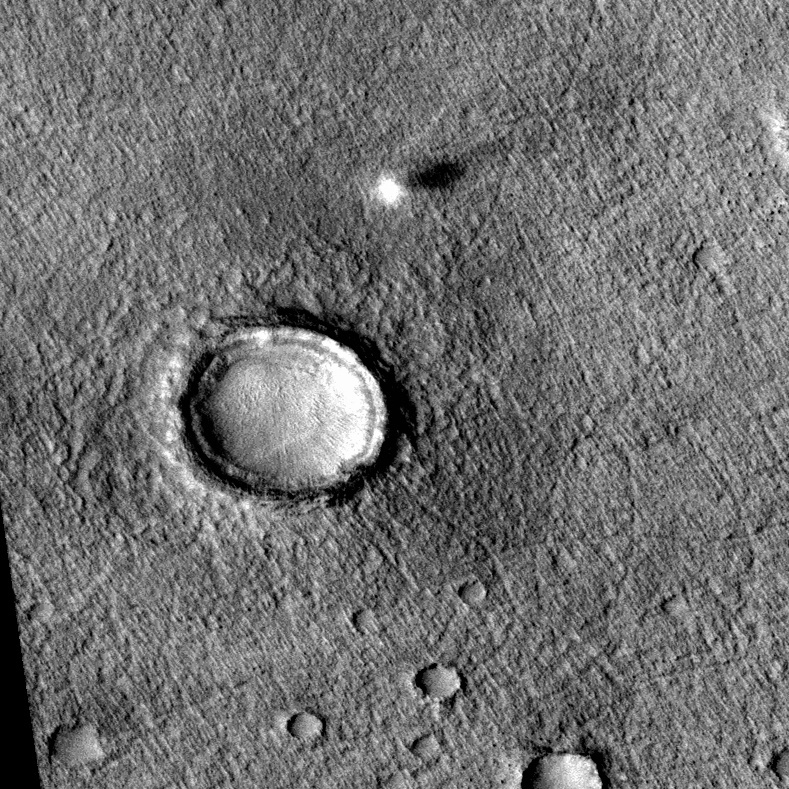dust_devil: (368, 153, 471, 210)
